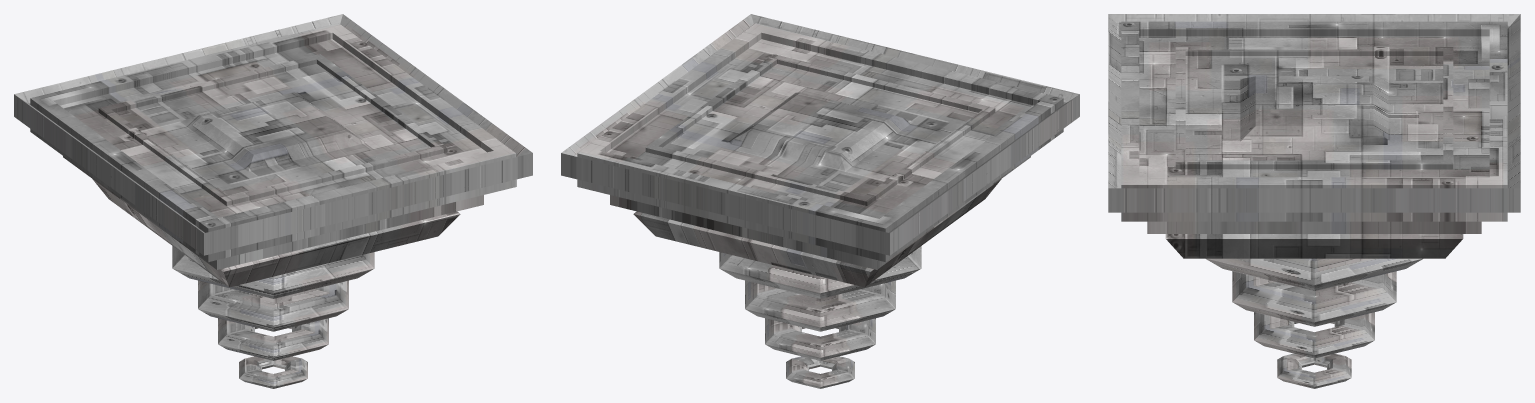
Rendered from SPACE_PLATFORM.fbx.
The picture shows the model from 3 angles, left to right: view 1: azimuth 30°, elevation 25°; view 2: azimuth 150°, elevation 25°; view 3: azimuth 270°, elevation 25°; orthographic projection. The views are drawn at different scales.
Parts seen in each view (by area): view 1: PLATFORM, RING_2, RING_1, RING_3, RING_4; view 2: PLATFORM, RING_2, RING_1, RING_3, RING_4; view 3: PLATFORM, RING_2, RING_1, RING_3, RING_4.
Boxes of the visible parts, bbox=[...] form: PLATFORM: bbox=[14, 14, 532, 287]; RING_2: bbox=[198, 280, 348, 331]; RING_1: bbox=[172, 246, 374, 298]; RING_3: bbox=[218, 318, 328, 360]; RING_4: bbox=[239, 356, 307, 388]; PLATFORM: bbox=[561, 14, 1079, 287]; RING_2: bbox=[745, 280, 895, 331]; RING_1: bbox=[719, 246, 921, 298]; RING_3: bbox=[765, 318, 875, 360]; RING_4: bbox=[786, 356, 854, 388]; PLATFORM: bbox=[1108, 14, 1520, 258]; RING_2: bbox=[1232, 271, 1396, 326]; RING_1: bbox=[1206, 258, 1422, 291]; RING_3: bbox=[1254, 312, 1374, 358]; RING_4: bbox=[1277, 353, 1351, 388].
Size of the model in its own units: 15.94 by 11.64 by 15.94.
Materials: 2 (2 with a texture image).
